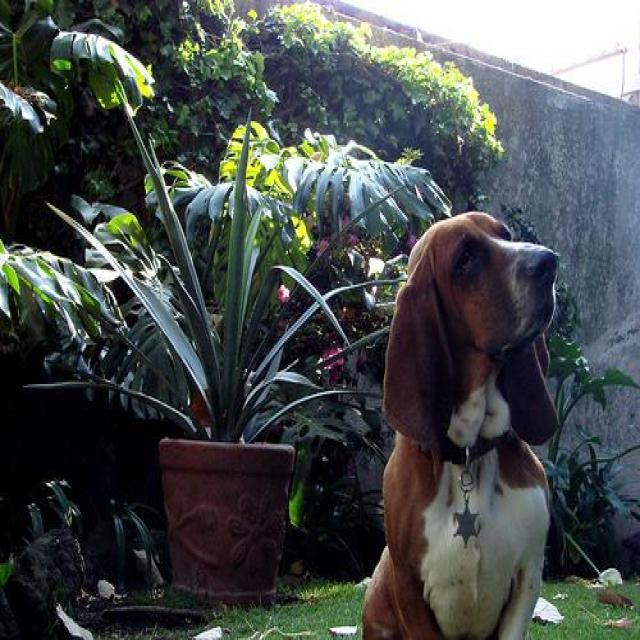basset: (358, 206, 564, 635)
